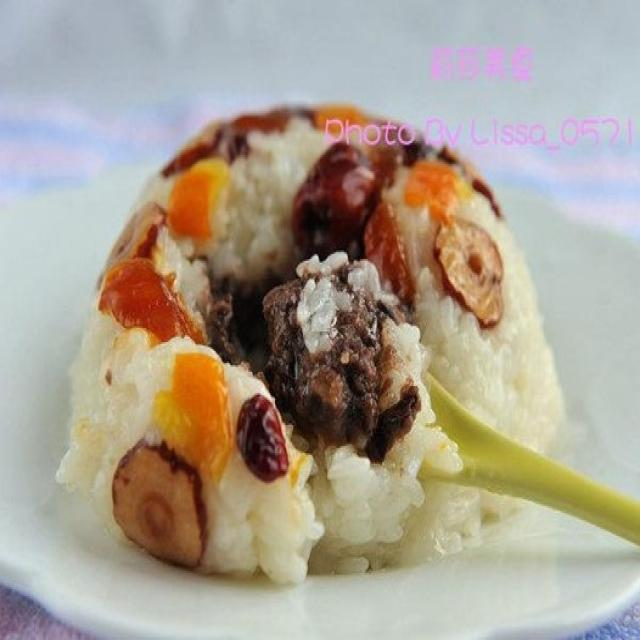米饭主食: (17, 70, 616, 620)
